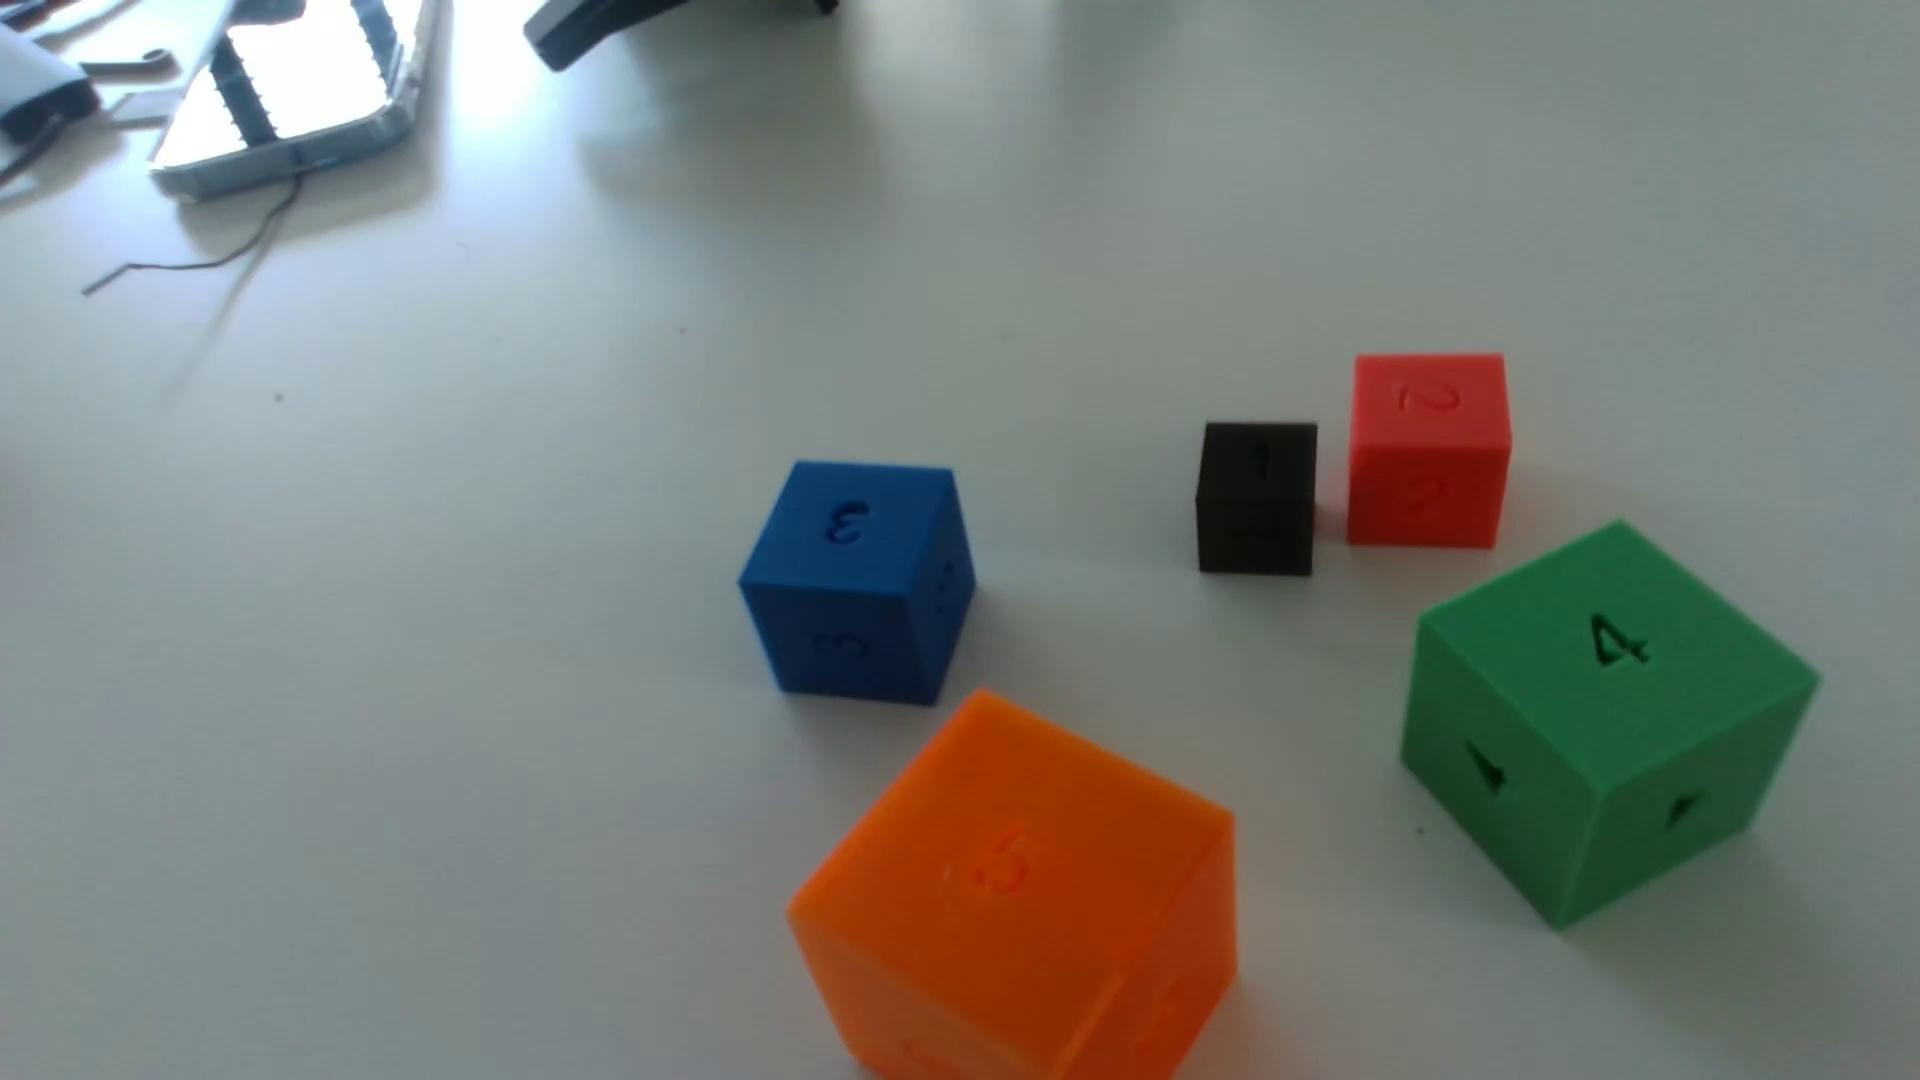black: (1193, 423, 1317, 579)
blue: (738, 462, 976, 707)
green: (1400, 524, 1818, 928)
orange: (789, 694, 1237, 1080)
red: (1346, 355, 1513, 551)
